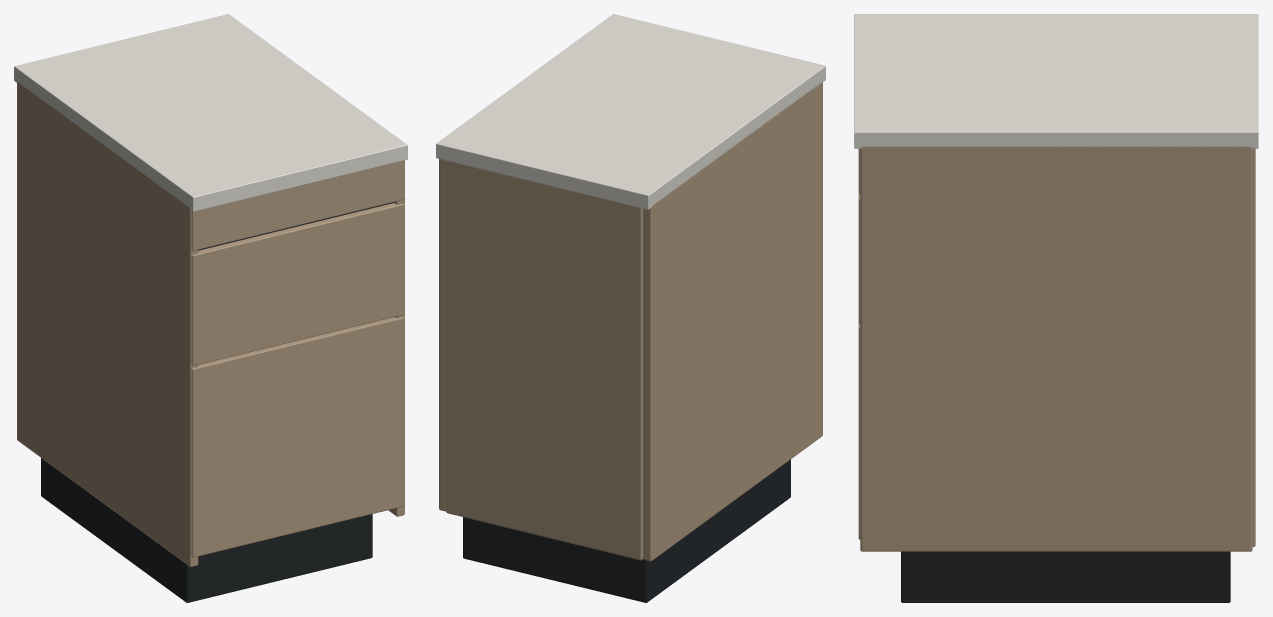
The model's file is original-kitchen-box-drawer450.glb.
3 views of the same model, side by side, from view 1: azimuth 30°, elevation 25°; view 2: azimuth 150°, elevation 25°; view 3: azimuth 270°, elevation 25° (orthographic). The views are drawn at different scales.
Parts seen in each view (by area): view 1: original-kitchen-box-drawer450; view 2: original-kitchen-box-drawer450; view 3: original-kitchen-box-drawer450.
Boxes of the visible parts, x1,y1,x2,y2 form: original-kitchen-box-drawer450: (14, 14, 407, 602); original-kitchen-box-drawer450: (436, 14, 825, 602); original-kitchen-box-drawer450: (854, 14, 1258, 602).
Size of the model in its own units: 0.45 by 0.85 by 0.65.
